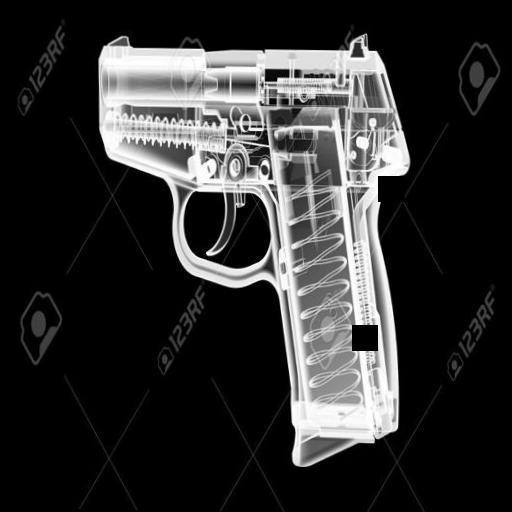Handgun: (90, 32, 406, 468)
